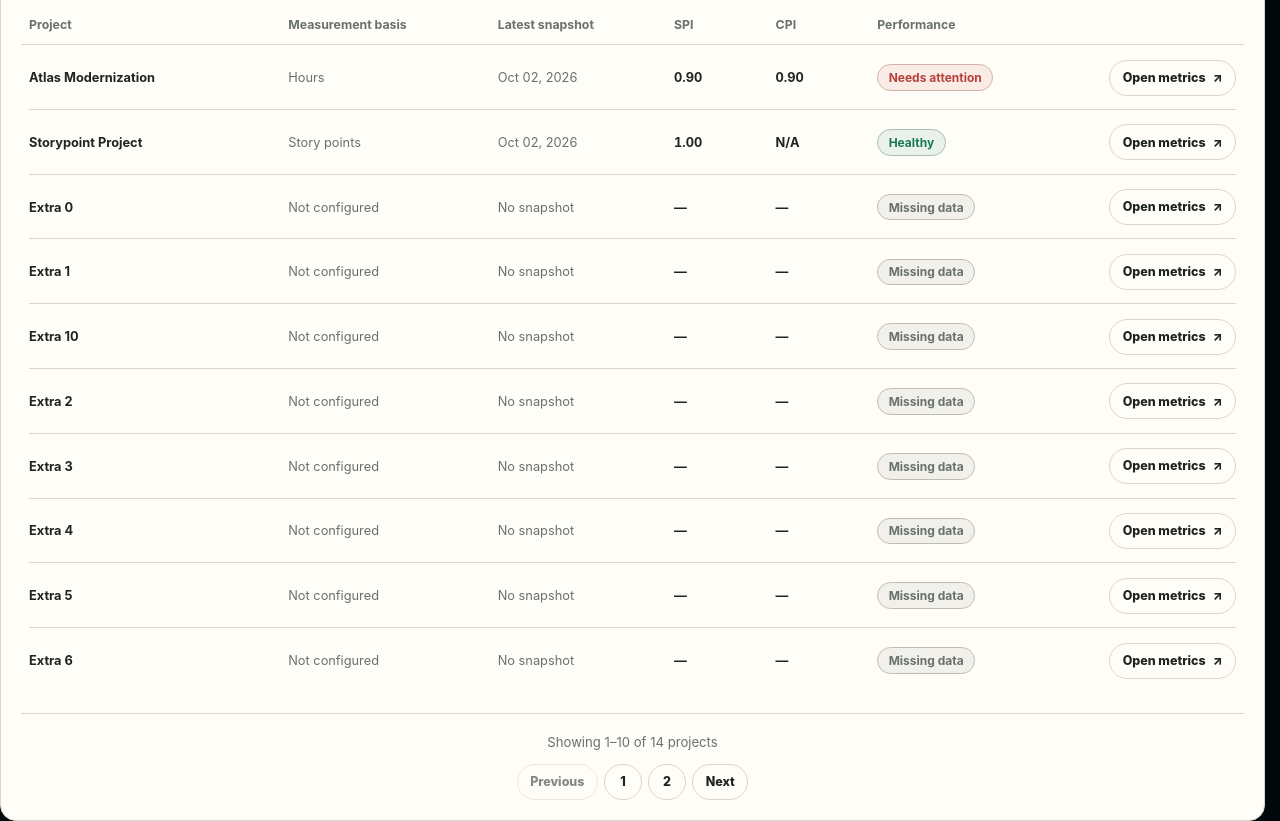
Test: GlobalMetricsPage › paginates 11 projects and resets to the first page when filtering
The image size is (1280, 821).
(page scrolled)
Check: the text "Showing 1–10 of 14 projects" is shown, box [547,734,718,750]
Check: the button "Previous" is disabled, box [517,764,598,800]
Step 1. Click the button "Next" → (720, 782), box [692,764,748,800]
(page scrolled)
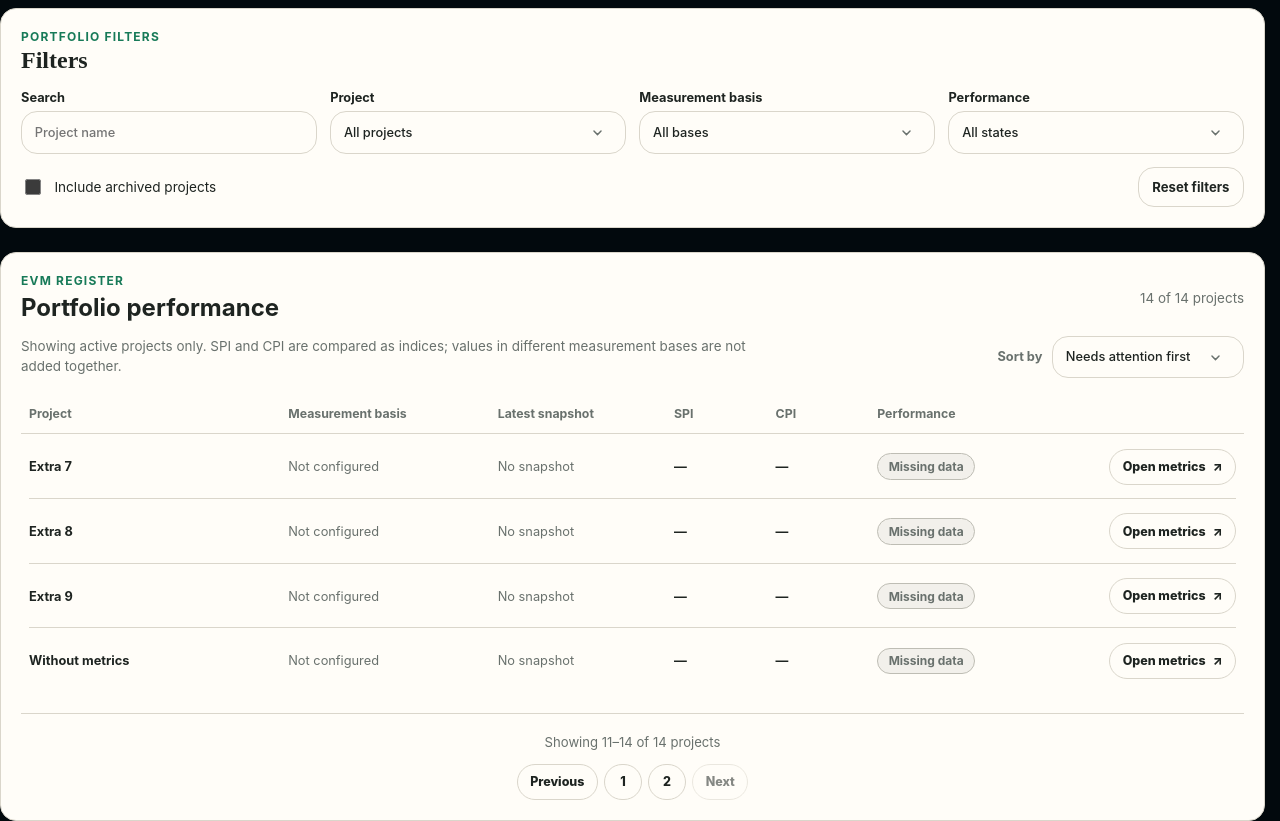
Check: the text "Showing 11–14 of 14 projects" is shown, box [545,734,720,750]
Check: the button "Next" is disabled, box [692,764,748,800]
Check: the number of links "Open metrics ↗" is 4, box [1109,448,1236,484]; [1109,513,1236,549]; [1109,578,1236,614]; [1109,643,1236,679]
Step 2. Type "Atlas" into the search field labelled "Search" → (169, 133), box [21,111,316,154]
(page scrolled)
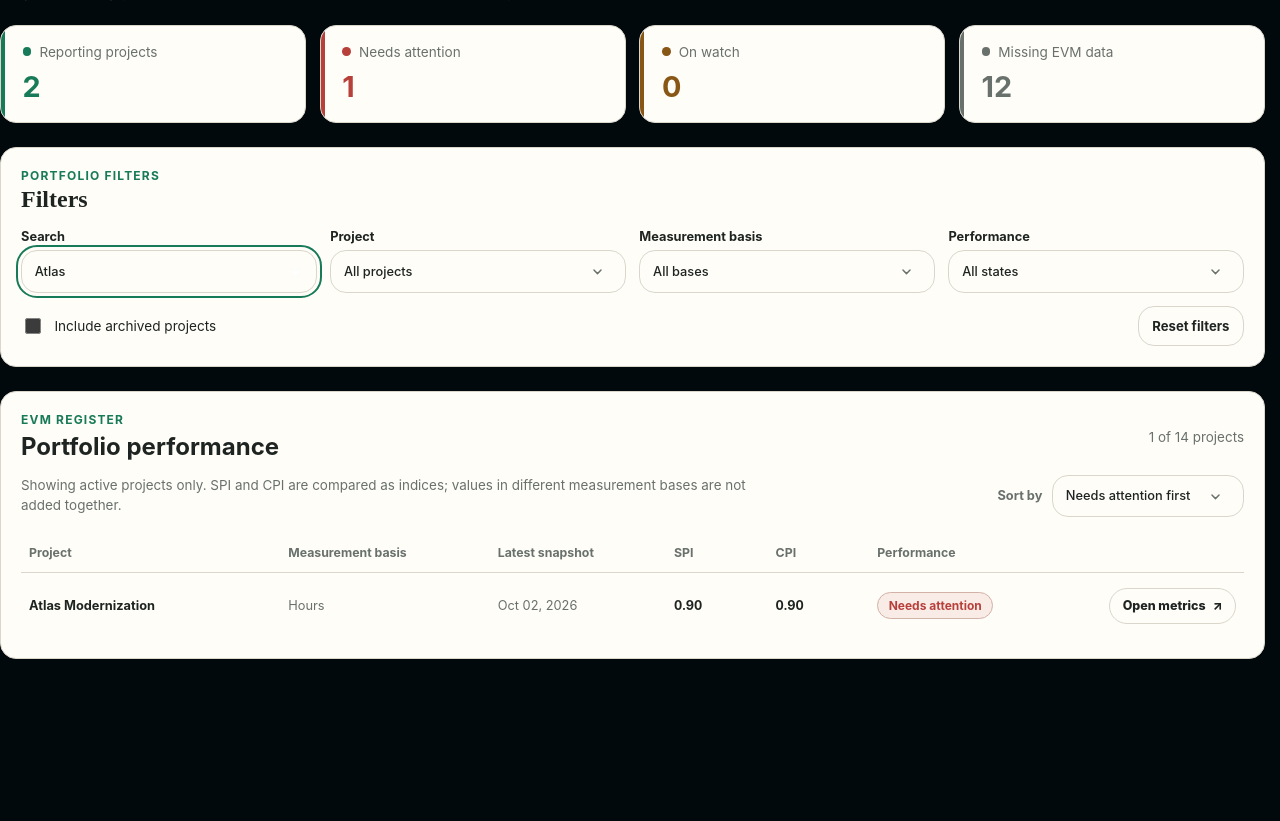
Check: the number of links "Open metrics ↗" is 1, box [1109,588,1236,624]
